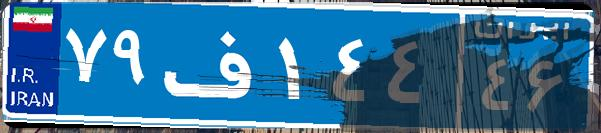1: (273, 28, 330, 110)
4: (385, 28, 445, 110), (330, 28, 385, 110), (475, 38, 525, 113)
6: (525, 38, 570, 115)
7: (57, 26, 110, 107)
9: (110, 28, 158, 105)
ف: (158, 15, 273, 115)
